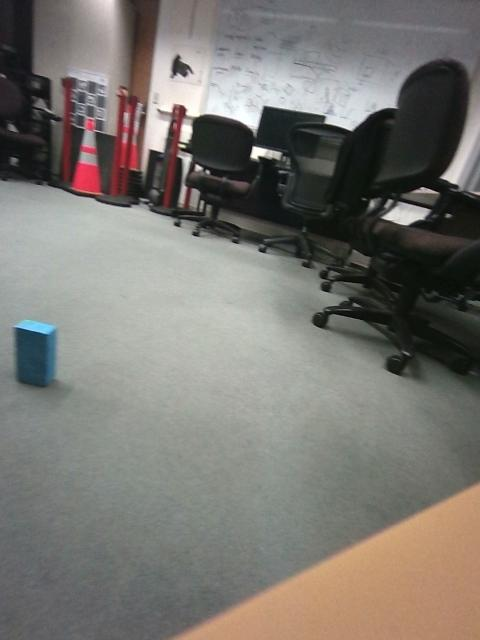block: (182, 308, 240, 350)
